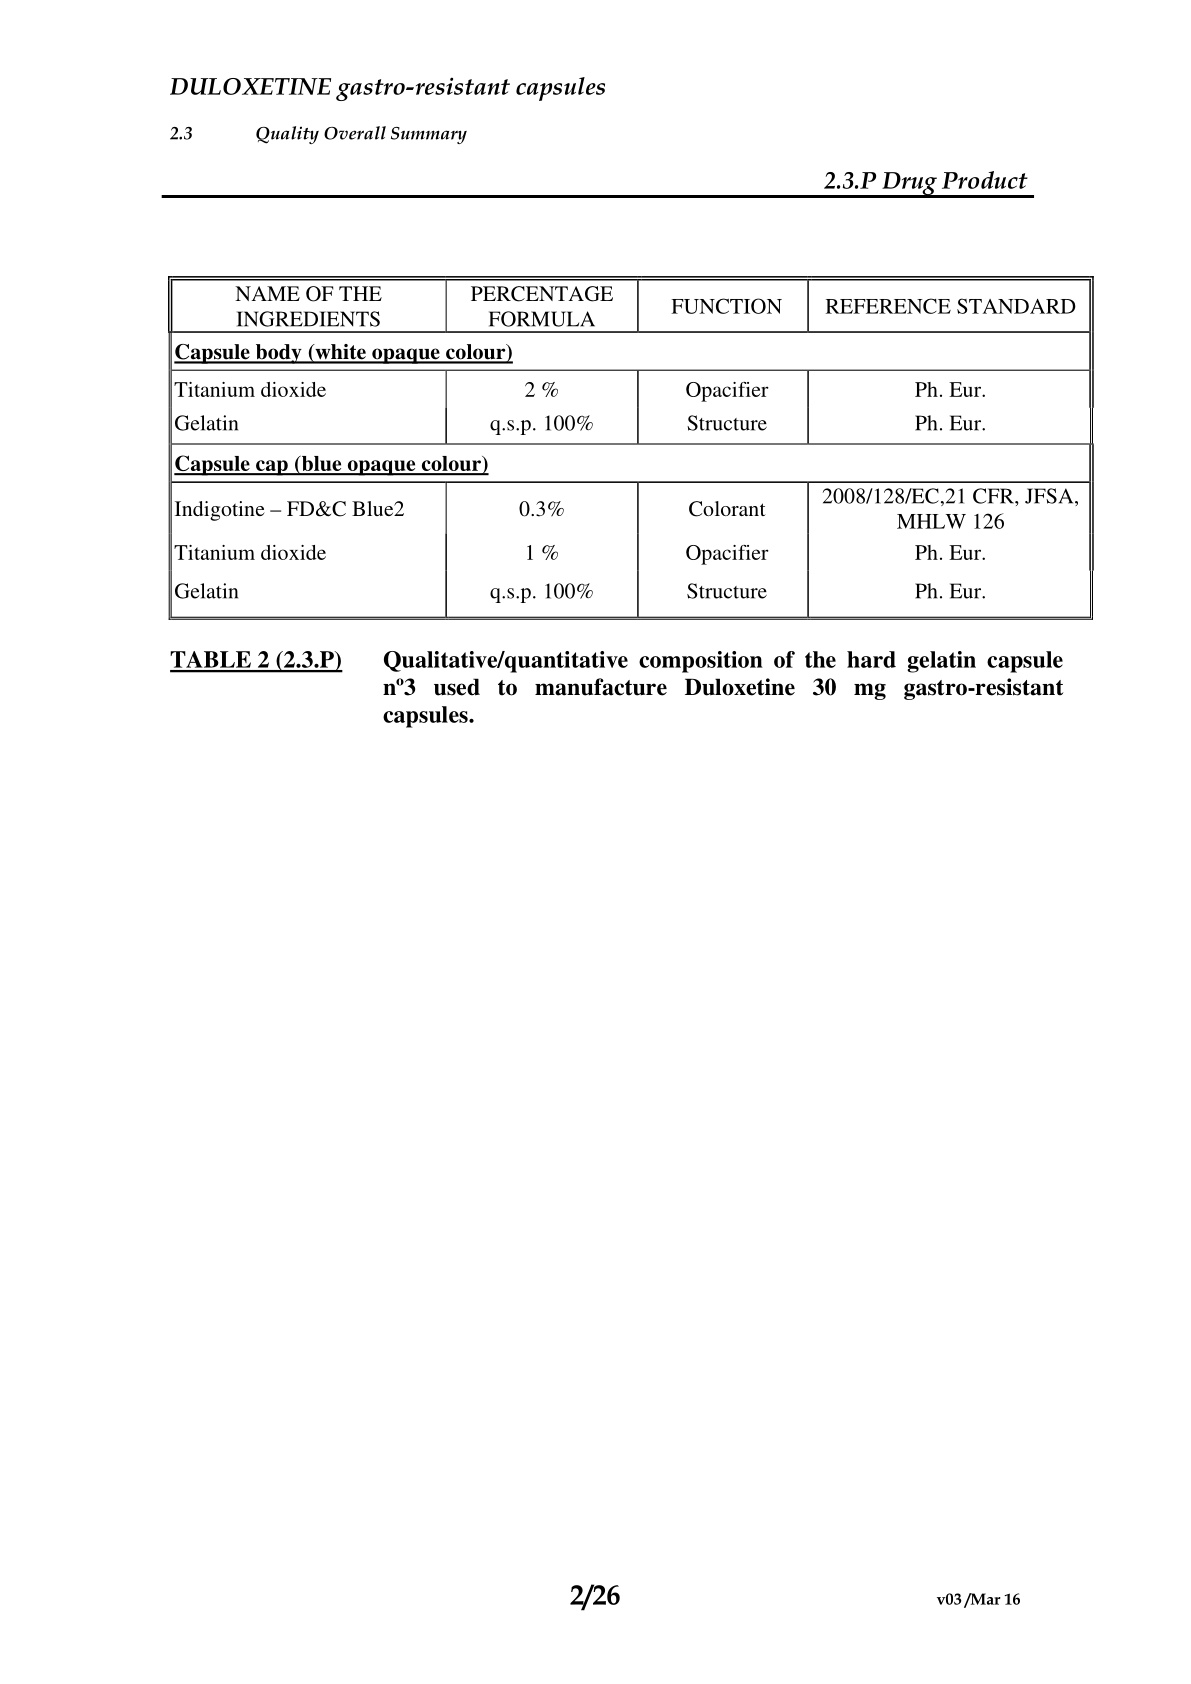merged_cells: (166, 274, 1094, 620)
